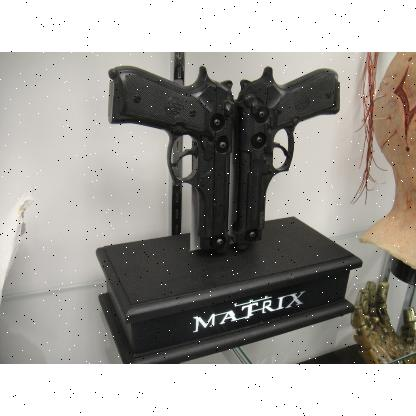gun: (107, 66, 235, 254), (237, 66, 339, 242)
